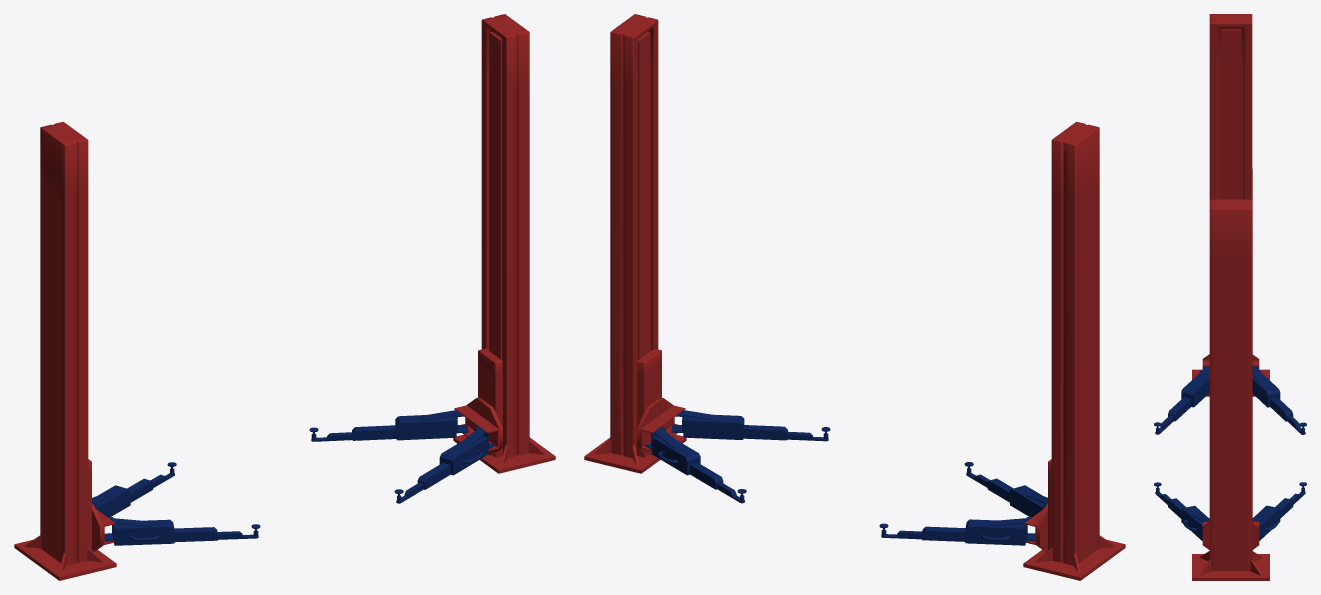
File: car_lift.glb
The picture shows the model from 3 angles, left to right: view 1: azimuth 30°, elevation 25°; view 2: azimuth 150°, elevation 25°; view 3: azimuth 270°, elevation 25°; orthographic projection. The views are drawn at different scales.
Visible parts, largest first — view 1: Car_Lift, Car_Lift001, Lift_Hand013_2_0, Lift_Hand001_2_0; view 2: Car_Lift, Car_Lift001, Lift_Hand013_2_0, Lift_Hand001_2_0; view 3: Car_Lift001, Car_Lift, Lift_Hand001_2_0, Lift_Hand013_2_0.
Boxes of the visible parts, x1,y1,x2,y2 form: Car_Lift: [14, 121, 116, 580]; Car_Lift001: [453, 14, 555, 473]; Lift_Hand013_2_0: [309, 410, 494, 503]; Lift_Hand001_2_0: [92, 462, 260, 545]; Car_Lift: [1023, 121, 1125, 580]; Car_Lift001: [584, 14, 686, 473]; Lift_Hand013_2_0: [645, 410, 830, 503]; Lift_Hand001_2_0: [879, 462, 1047, 545]; Car_Lift001: [1192, 199, 1269, 580]; Car_Lift: [1192, 14, 1269, 396]; Lift_Hand001_2_0: [1154, 366, 1306, 434]; Lift_Hand013_2_0: [1154, 482, 1306, 540].
Bounding box in the file's own units: 0.6568 × 0.5366 × 0.2036.
